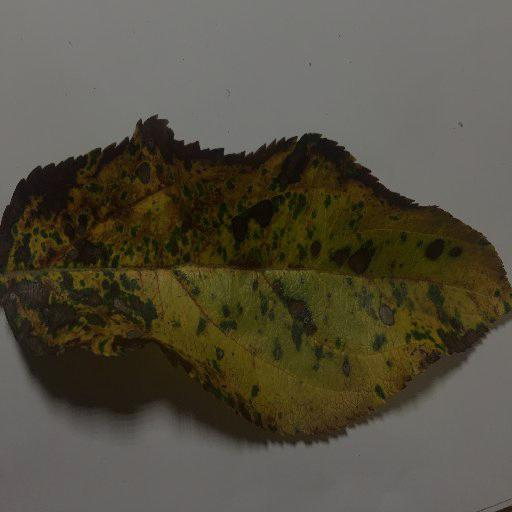Brown_Spot: (1, 155, 234, 357), (248, 154, 382, 259), (258, 287, 330, 372), (415, 300, 491, 359), (419, 232, 459, 268), (375, 292, 398, 328)
